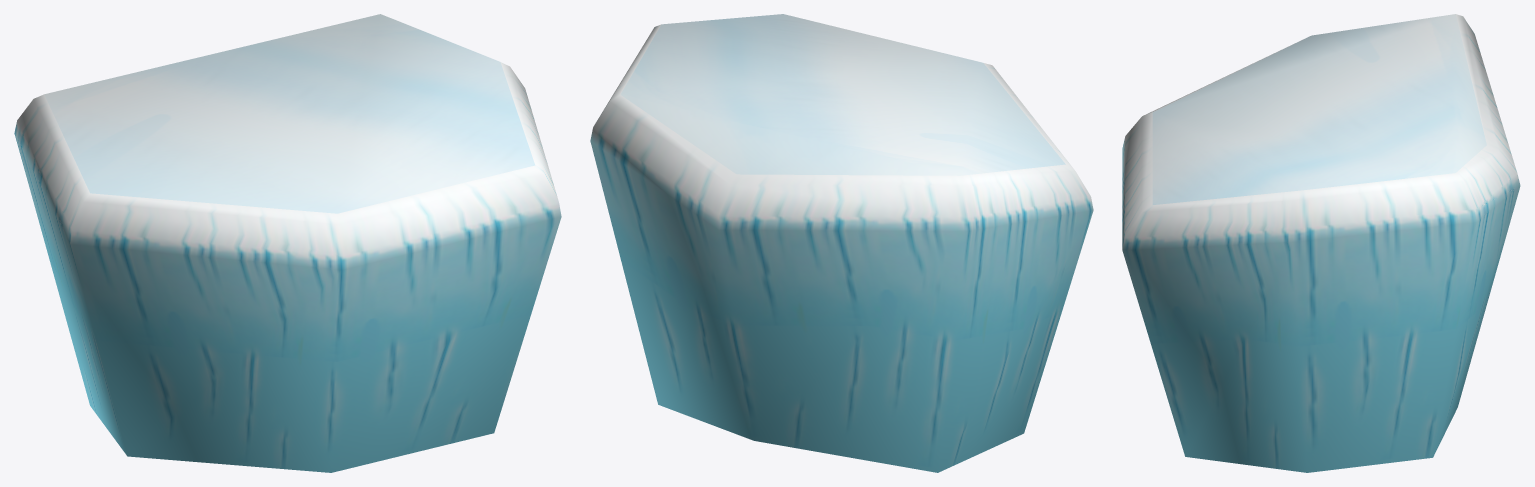
Rendered from Isoland02.FBX.
The picture shows the model from 3 angles, left to right: view 1: azimuth 30°, elevation 25°; view 2: azimuth 150°, elevation 25°; view 3: azimuth 270°, elevation 25°; orthographic projection. The views are drawn at different scales.
Visible parts, largest first — view 1: Cylinder042; view 2: Cylinder042; view 3: Cylinder042.
Boxes of the visible parts, x1,y1,x2,y2 form: Cylinder042: (14, 14, 561, 472); Cylinder042: (590, 14, 1093, 472); Cylinder042: (1122, 14, 1520, 472).
Bounding box in the file's own units: 565 × 371 × 449.
